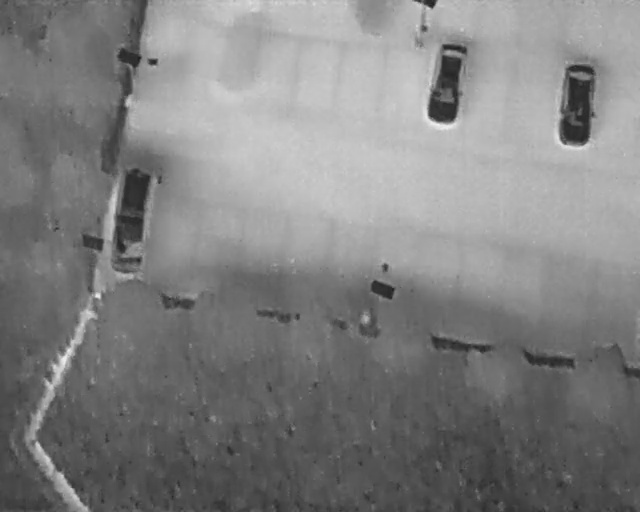Car: (101, 163, 158, 279), (422, 39, 473, 129), (553, 60, 602, 150)
